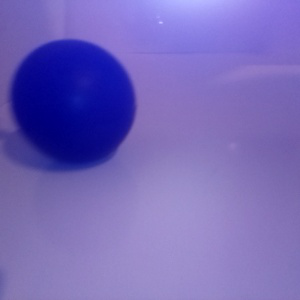dead_ball: (8, 38, 136, 161)
